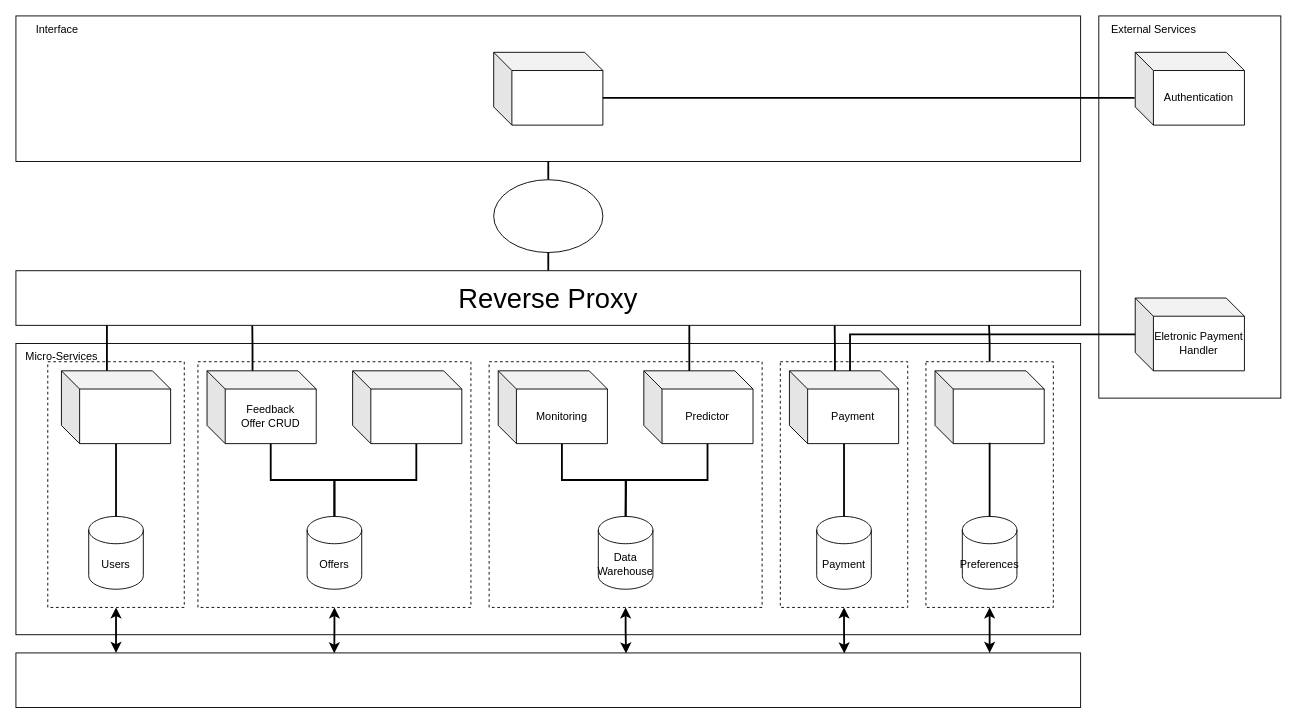
Some shapes in this 1297 by 723 pixel diagram are drawn without their labels. The shapes that lost their labels are listed below. From the top down, each one's centre as x and y in pixels, then its label:
At (548,88): "User Interface".
At (548,216): "API".
At (116,407): "User CRUD".
At (407,407): "Tagging".
At (989,407): "Recomender".
At (548,680): "Message Queue".
